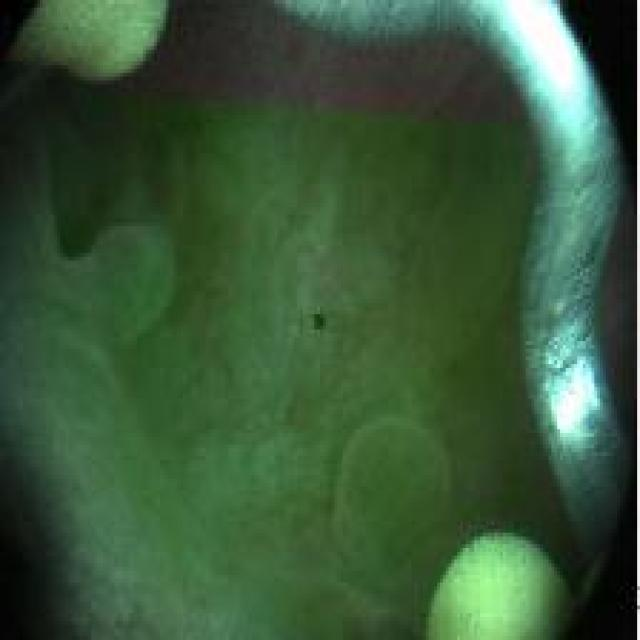color misalignment: (307, 307, 334, 340)
contrast: (17, 49, 202, 236), (7, 436, 85, 631), (138, 14, 285, 102)
instrument: (474, 7, 626, 565), (269, 5, 551, 69), (417, 528, 577, 631), (10, 5, 176, 82)
saturation: (490, 0, 596, 119)
specularity: (508, 12, 594, 116), (549, 359, 596, 426)
